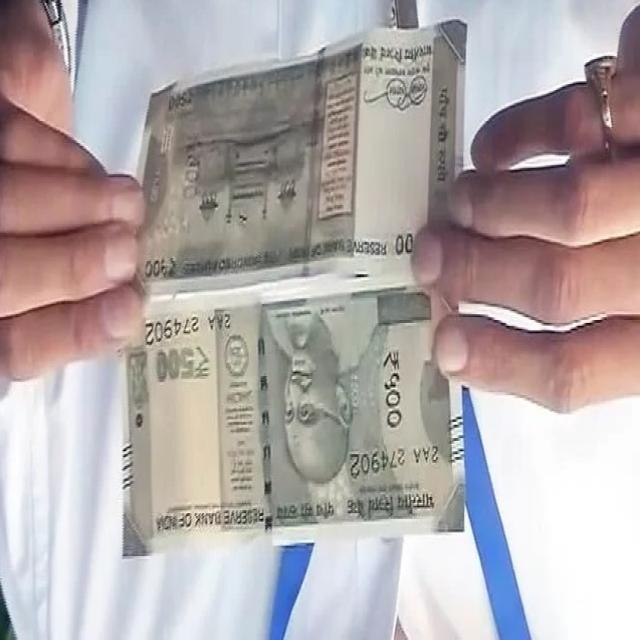500IndianRupees: (136, 17, 465, 287)
